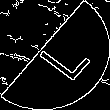L_NW: (23, 27, 87, 83)
